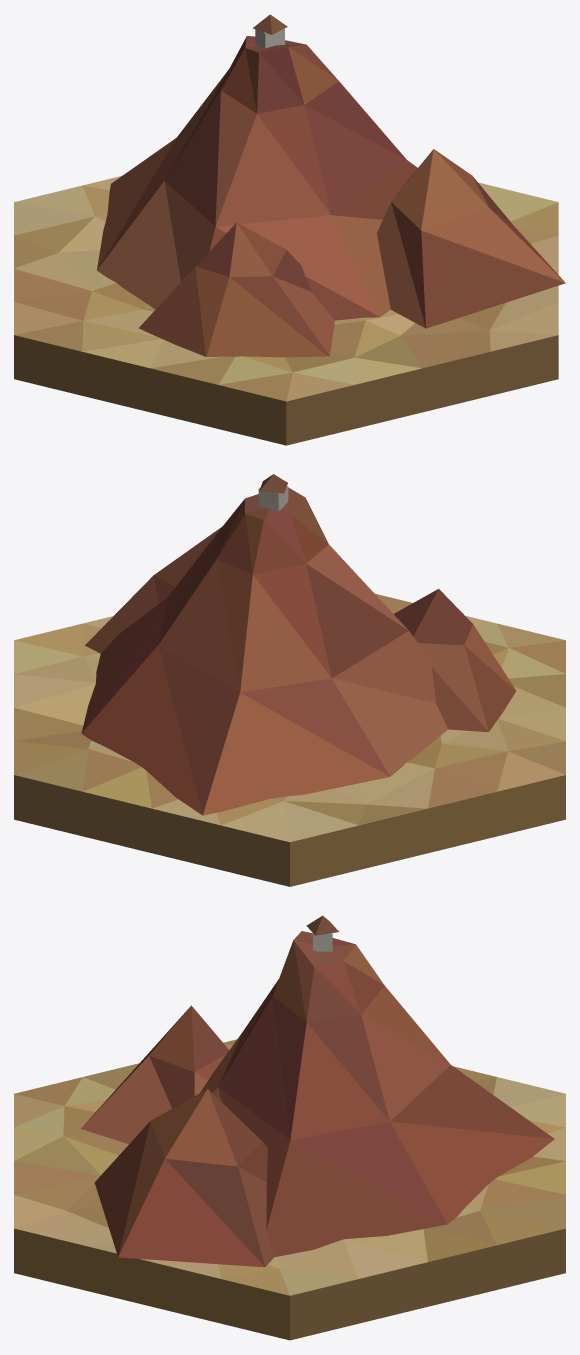
The model's file is Mount Sinai.glb.
The picture shows the model from 3 angles, top to bottom: view 1: azimuth 30°, elevation 25°; view 2: azimuth 150°, elevation 25°; view 3: azimuth 270°, elevation 25°; orthographic projection.
Visible parts, largest first — view 1: Mount Sinai; view 2: Mount Sinai; view 3: Mount Sinai.
Part boxes in pixels (left/top/right/bottom): Mount Sinai: left=14, top=14, right=565, bottom=445; Mount Sinai: left=14, top=474, right=565, bottom=886; Mount Sinai: left=14, top=915, right=565, bottom=1340.
Bounding box in the file's own units: 1.94 × 0.975 × 1.68.
